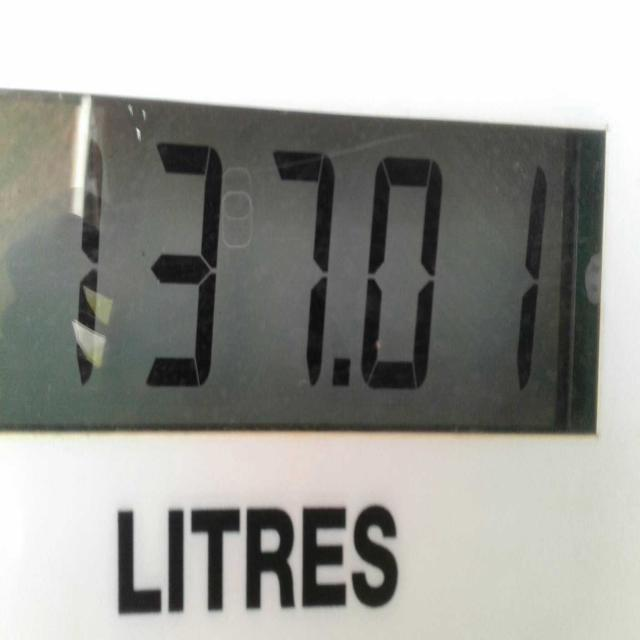.: (329, 346, 362, 410)
0: (359, 152, 465, 402)
1: (492, 143, 562, 405), (71, 128, 113, 402)
3: (142, 129, 234, 405)
7: (258, 146, 345, 383)
